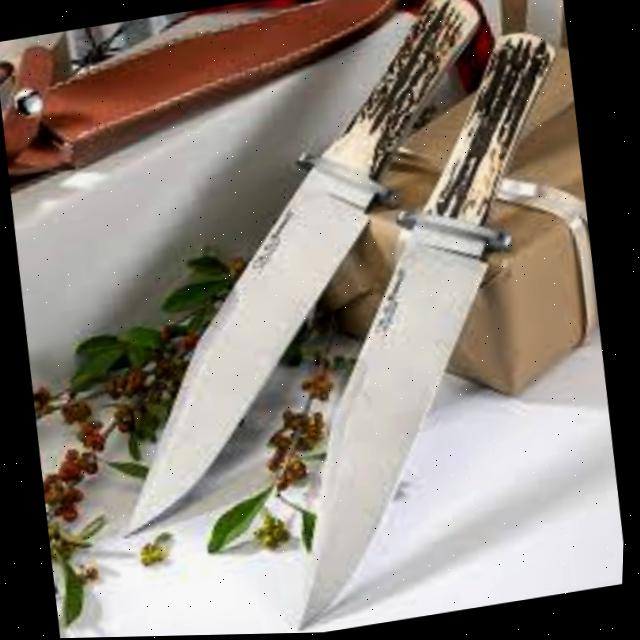Knife: (56, 0, 547, 538), (221, 26, 630, 631)
